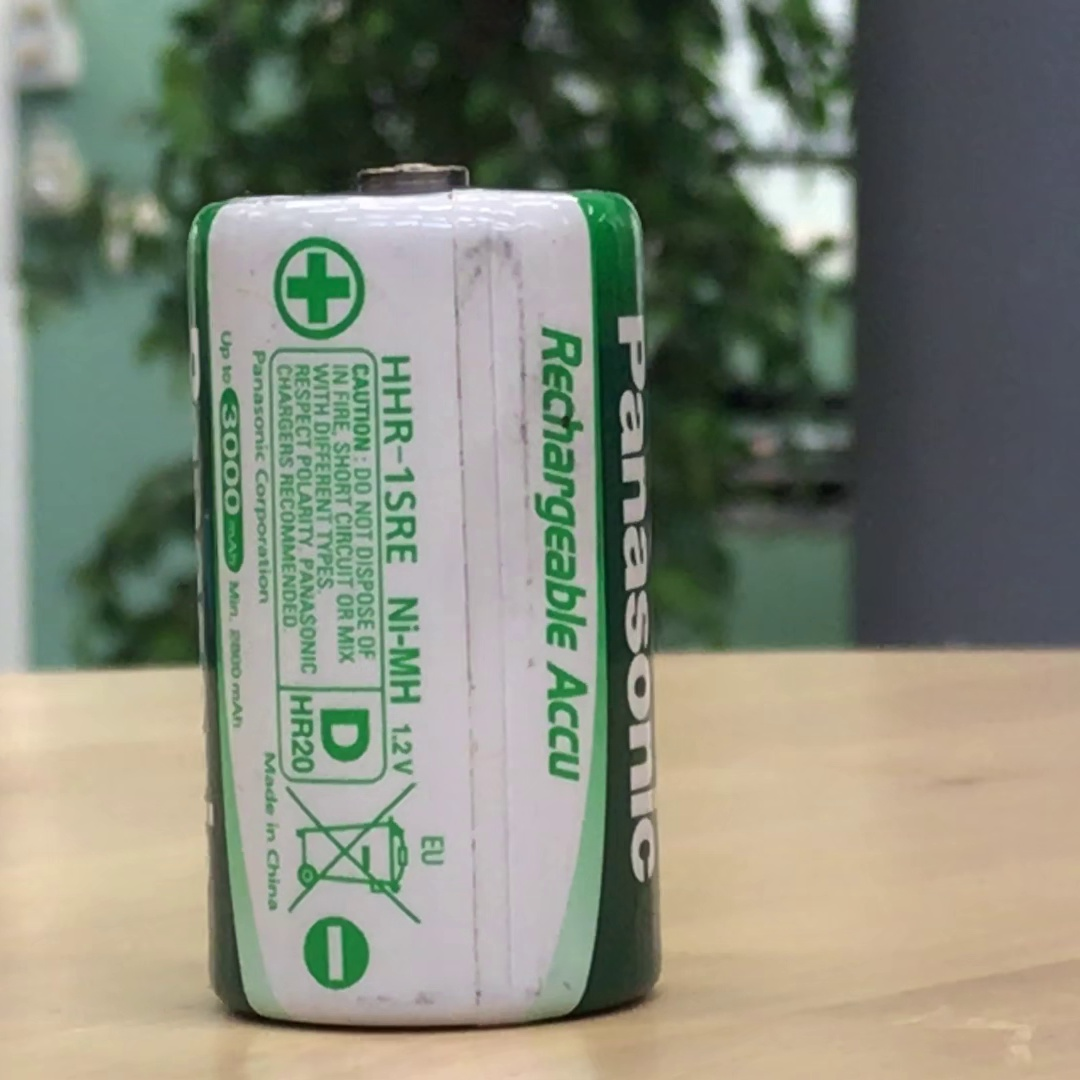keyword: (370, 572, 430, 712)
